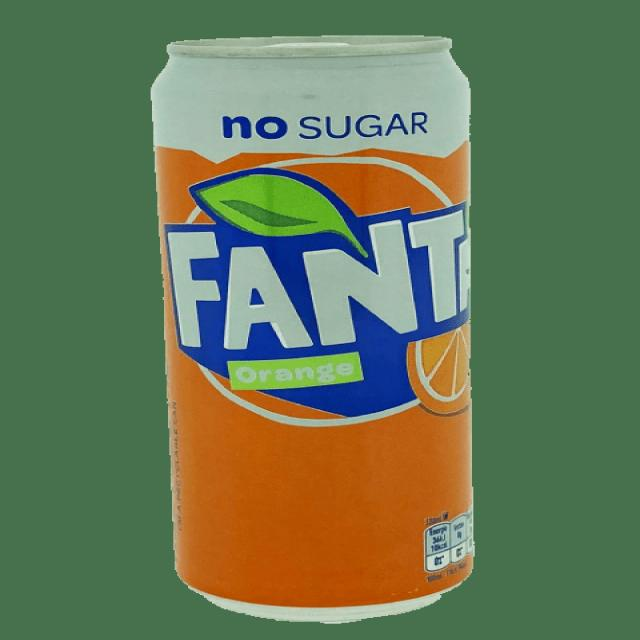fanta: (139, 37, 492, 614)
